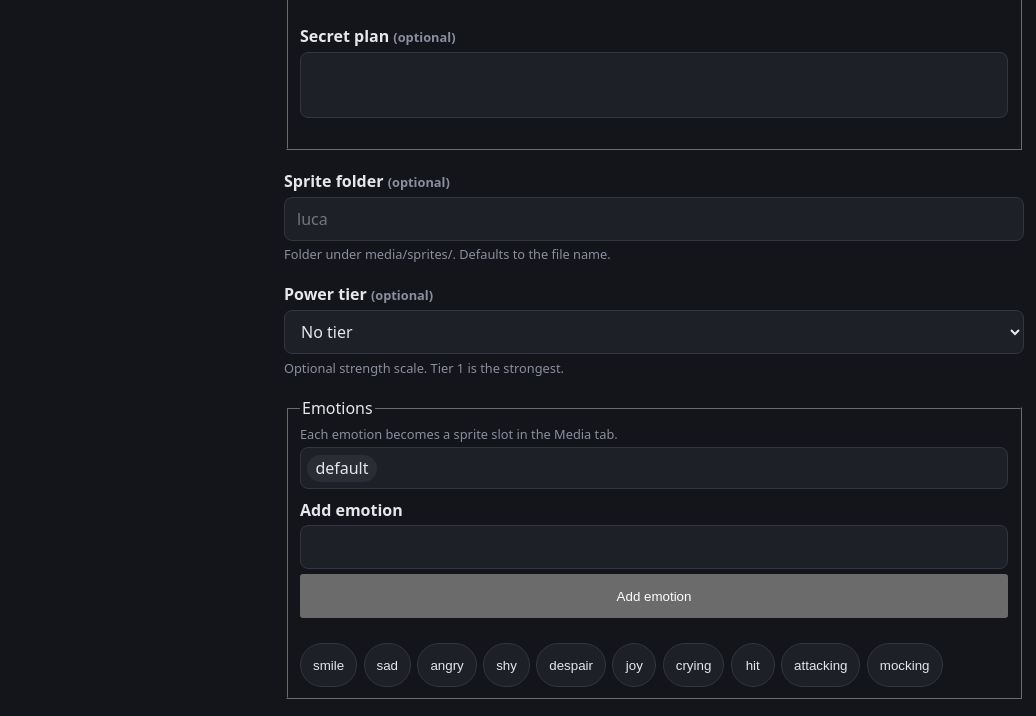
CharactersTab › setting a power tier shows the badge in the list
The image size is (1036, 716).
(page scrolled)
Select "Tier 1" in the dropdown labelled "Power tier (optional)" at (654, 332), box left=284, top=310, right=1024, bottom=354
(page scrolled)
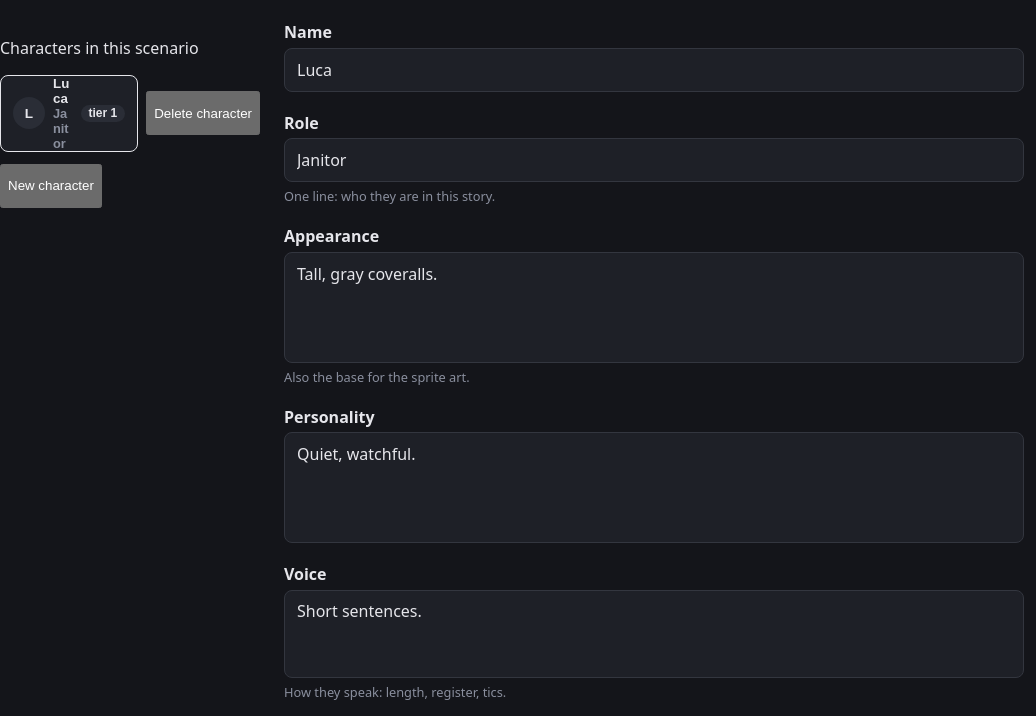
Now the text "tier 1" is shown, box left=80, top=105, right=125, bottom=122
